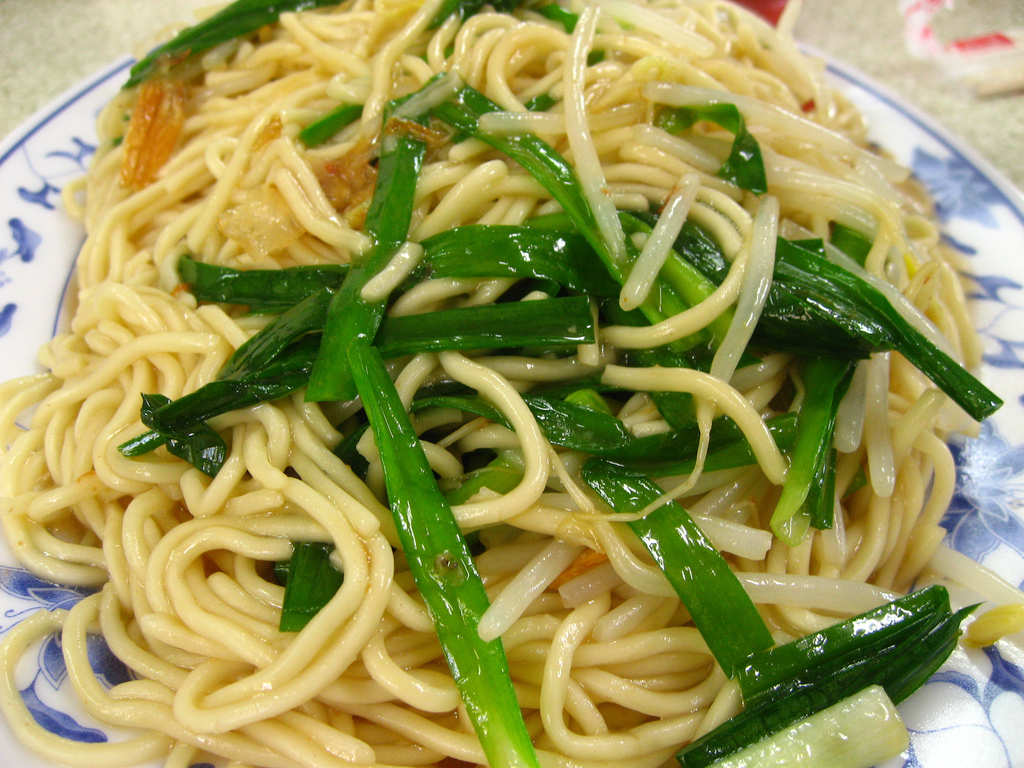plain spaghetti: (155, 76, 886, 702)
